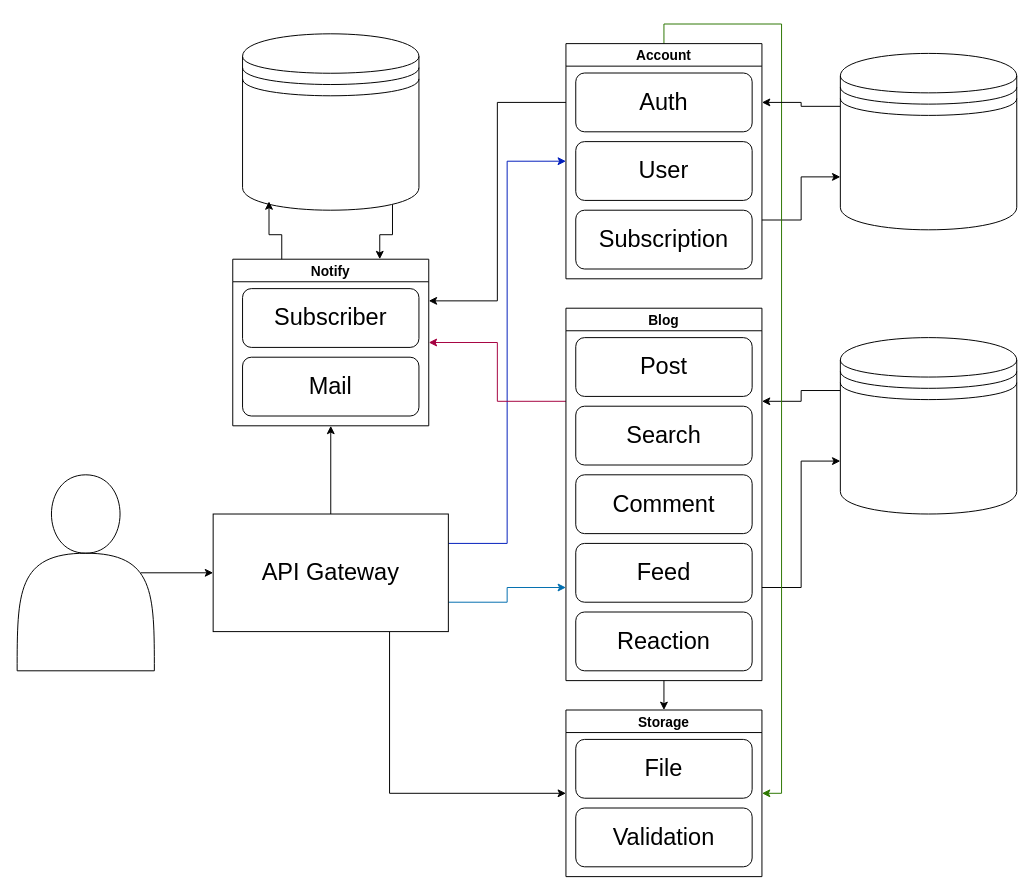
Some shapes in this 1034 by 894 pixel diagram are drawn without their labels. The centre of each missing label's shape, as x and y in pixels:
"Client" belongs at [85,572].
"MongoDB" belongs at [928,425].
"PostgreSQL" belongs at [928,141].
"RabbitMQ" belongs at [330,121].
